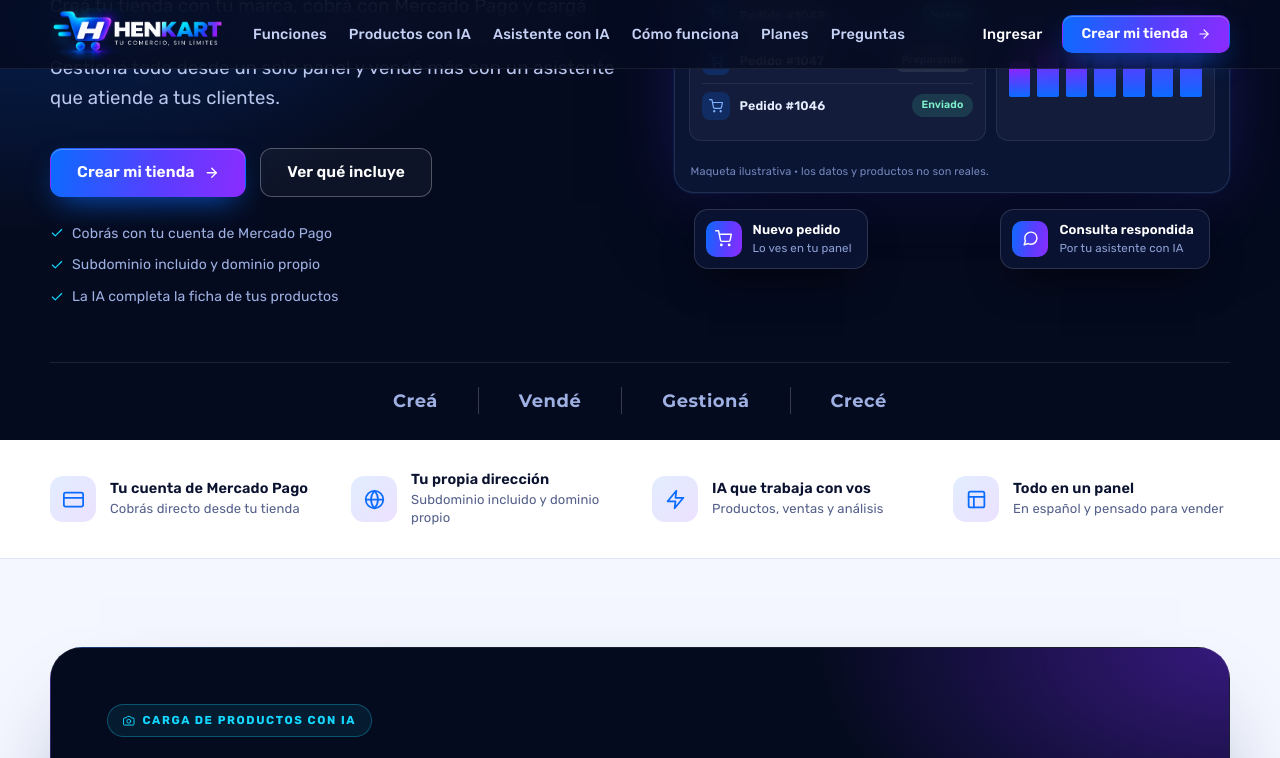
it: PlatformLanding · funciones por pestañas › los verbos del hero seleccionan la pestaña correspondiente
(page scrolled)
Click the link "Gestioná" at (706, 400), box x1=621 y1=387 x2=790 y2=414
(page scrolled)
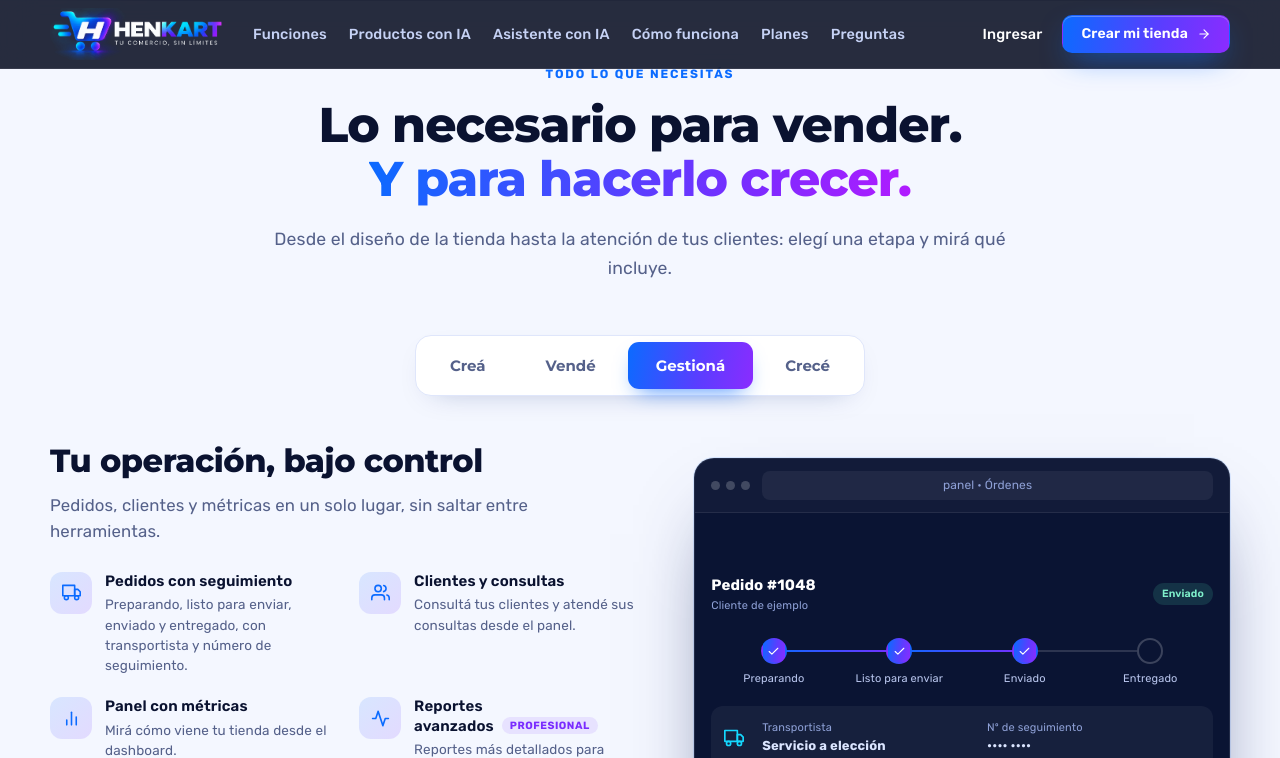
Now the heading "Tu operación, bajo control" is shown, box x1=50 y1=441 x2=483 y2=480
